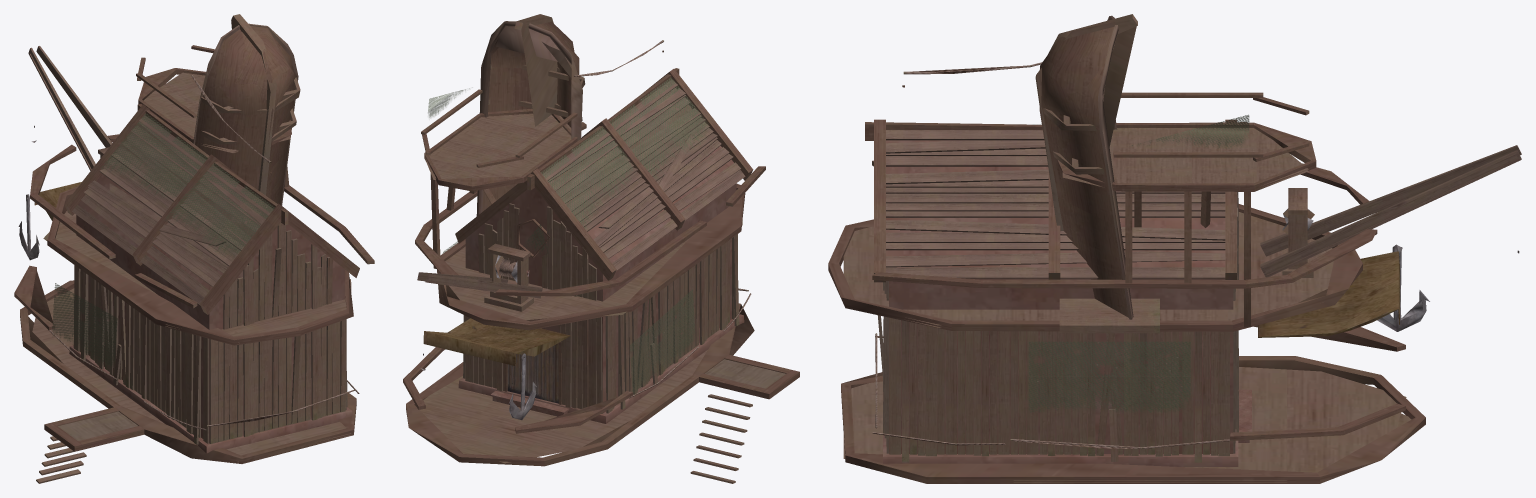
Rendered from fishing-hut.lod0.glb.
3 views of the same model, side by side, from view 1: azimuth 30°, elevation 25°; view 2: azimuth 150°, elevation 25°; view 3: azimuth 270°, elevation 25° (orthographic). The views are drawn at different scales.
Parts seen in each view (by area): view 1: Box040_Material #2_0; view 2: Box040_Material #2_0; view 3: Box040_Material #2_0.
Part boxes in pixels (bbox=[...]): Box040_Material #2_0: bbox=[14, 14, 374, 483]; Box040_Material #2_0: bbox=[403, 14, 799, 483]; Box040_Material #2_0: bbox=[828, 14, 1521, 483].
Size of the model in its own units: 4.18 by 5.93 by 6.96.
1 material, 1 textured.
